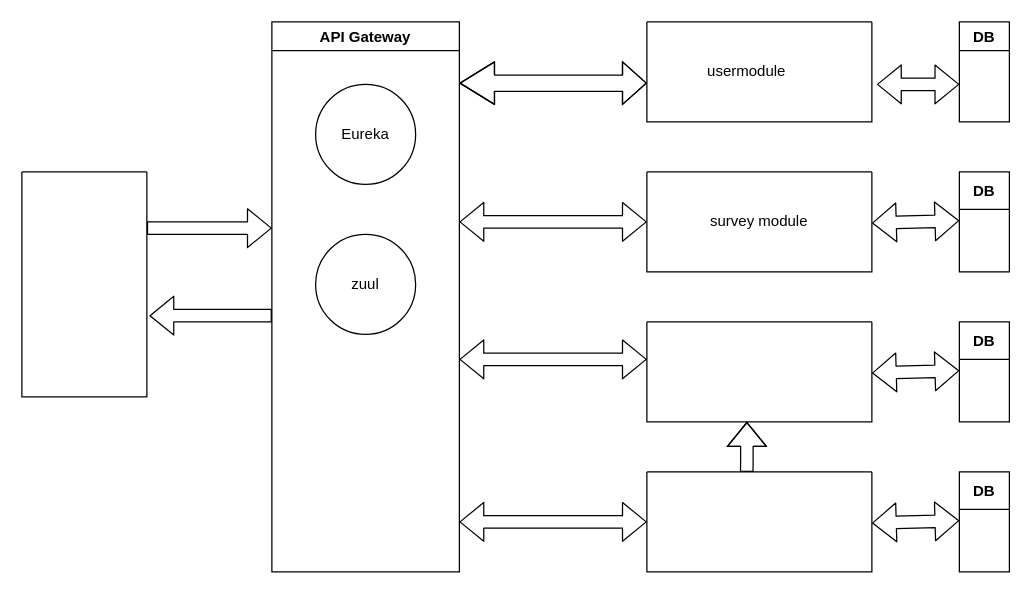
The diagram is 1031 pixels wide and 594 high, and some of its shapes have lost their labels. Each missing label, with the centre of its shape:
Analytic module: the point at 759,521
client: the point at 84,284
survey result module: the point at 759,371
